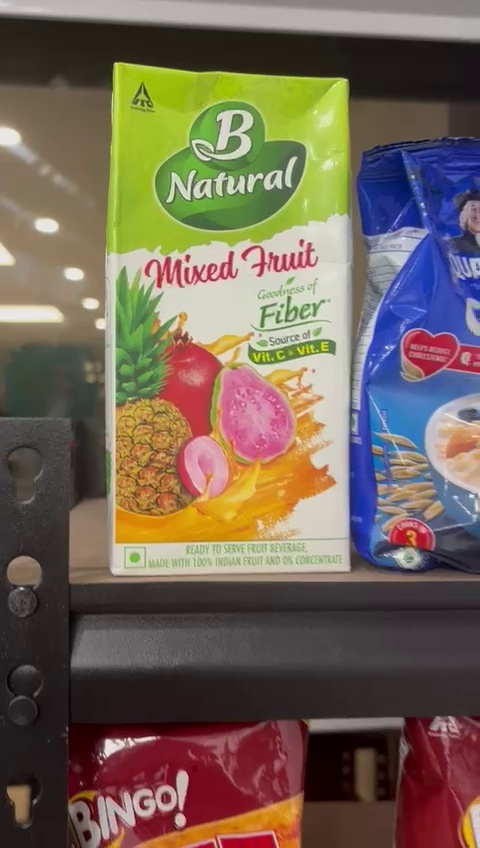Mixed Fruit: (111, 59, 355, 571)
